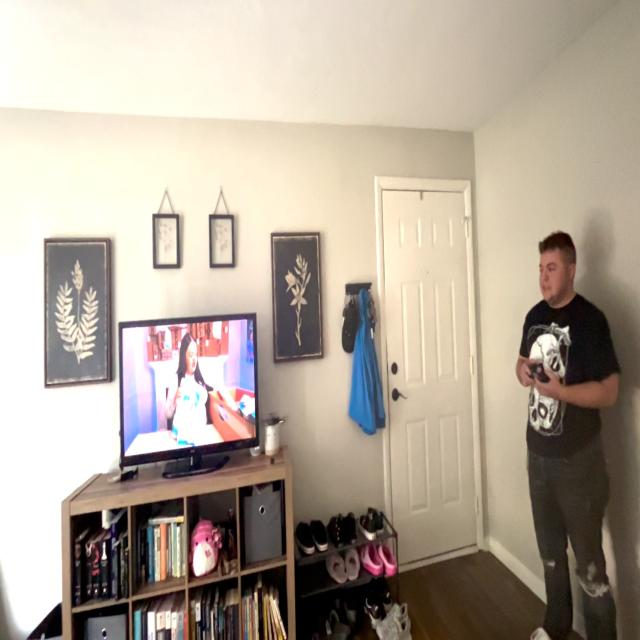drone: (247, 399, 291, 435)
